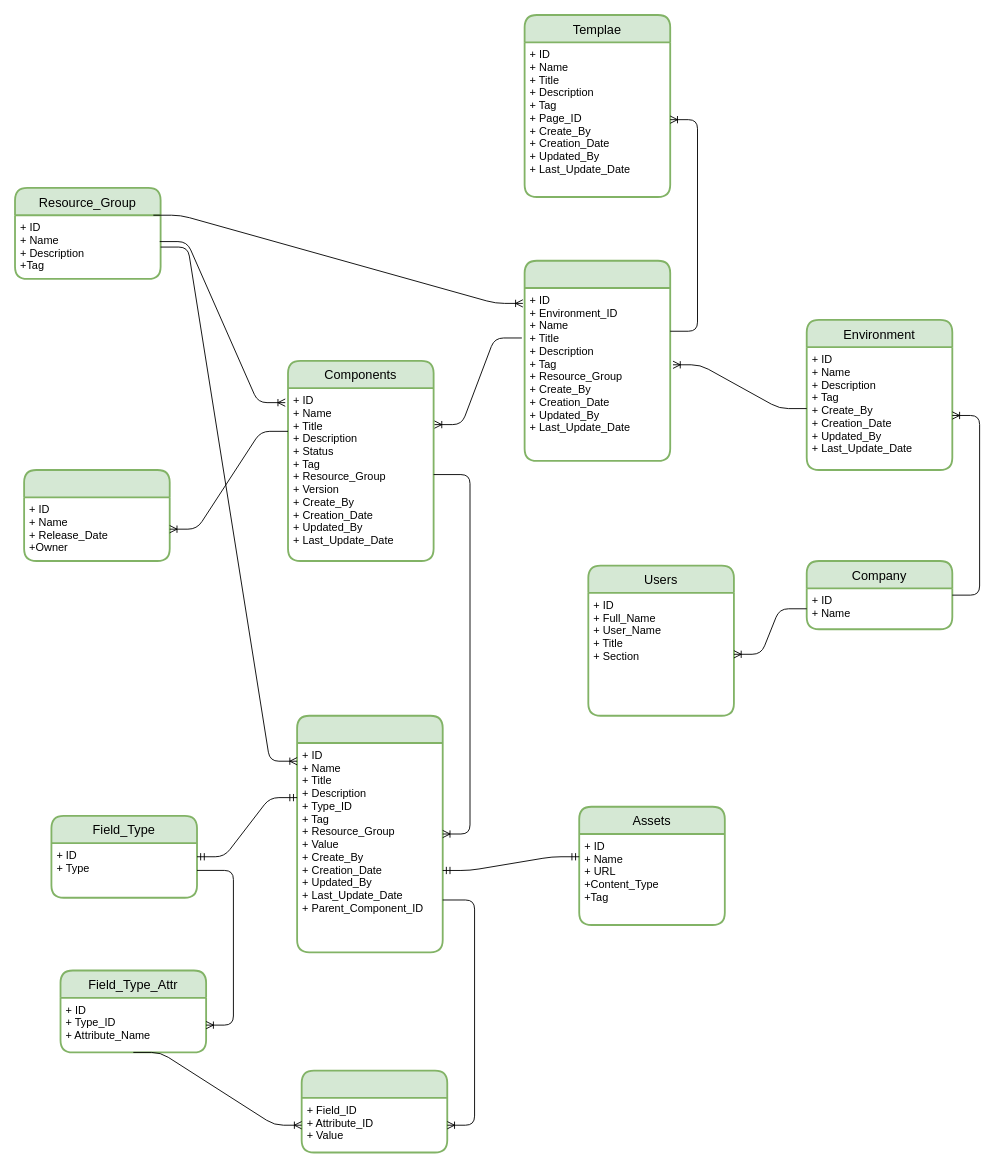
Some shapes in this 995 by 1168 pixel diagram are drawn without their labels. The shapes that lost their labels are listed below. From the top down, each one's box as (x1, y1, x2, y2) in pixels, then its label:
(523, 259, 671, 461): Pages
(23, 469, 170, 561): Versions
(296, 714, 443, 953): Fields
(300, 1069, 448, 1153): Field_Attributes
